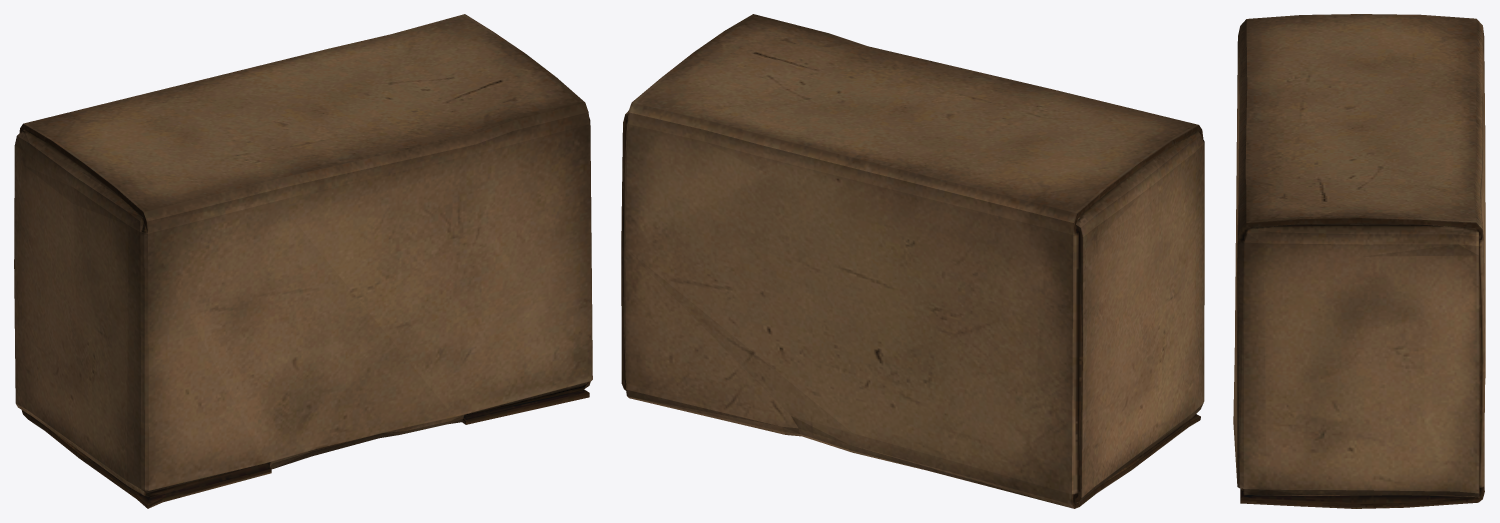
3 views of the same model, side by side, from view 1: azimuth 30°, elevation 25°; view 2: azimuth 150°, elevation 25°; view 3: azimuth 270°, elevation 25° (orthographic). The views are drawn at different scales.
Parts seen in each view (by area): view 1: TW_657024e3c5d7d4cb4d07856a_PZ_Import; view 2: TW_657024e3c5d7d4cb4d07856a_PZ_Import; view 3: TW_657024e3c5d7d4cb4d07856a_PZ_Import.
Boxes of the visible parts, box(x1,y1,x2,y2) form: TW_657024e3c5d7d4cb4d07856a_PZ_Import: box(14, 14, 592, 508); TW_657024e3c5d7d4cb4d07856a_PZ_Import: box(621, 14, 1204, 508); TW_657024e3c5d7d4cb4d07856a_PZ_Import: box(1233, 14, 1485, 508).
Bounding box in the file's own units: 0.0555 × 0.0276 × 0.035.
1 material, 1 textured.
